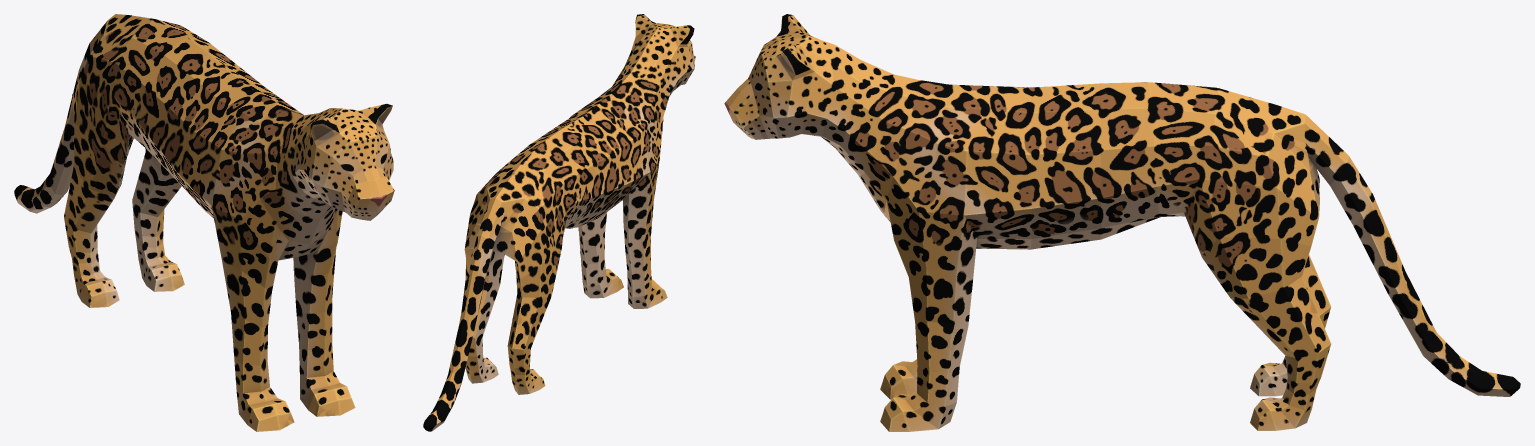
File: Jaguar.obj
3 views of the same model, side by side, from view 1: azimuth 30°, elevation 25°; view 2: azimuth 150°, elevation 25°; view 3: azimuth 270°, elevation 25° (orthographic). The views are drawn at different scales.
Visible parts, largest first — view 1: Jaguar_mesh; view 2: Jaguar_mesh; view 3: Jaguar_mesh.
Part boxes in pixels (x1=…): Jaguar_mesh: x1=14, y1=14, x2=394, y2=431; Jaguar_mesh: x1=423, y1=14, x2=695, y2=431; Jaguar_mesh: x1=724, y1=14, x2=1520, y2=431.
Bounding box in the file's own units: 2.51 × 6.84 × 13.22.
Materials: 1 (1 with a texture image).
